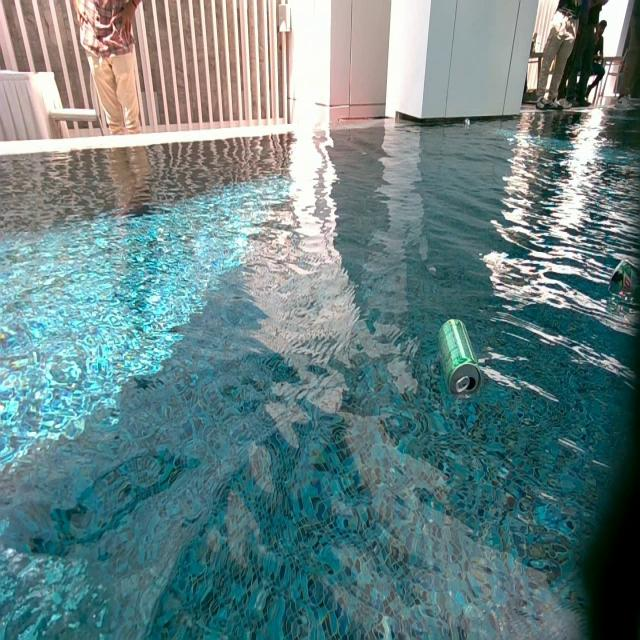Cans: (438, 317, 482, 398), (613, 258, 639, 294), (464, 118, 470, 126)
